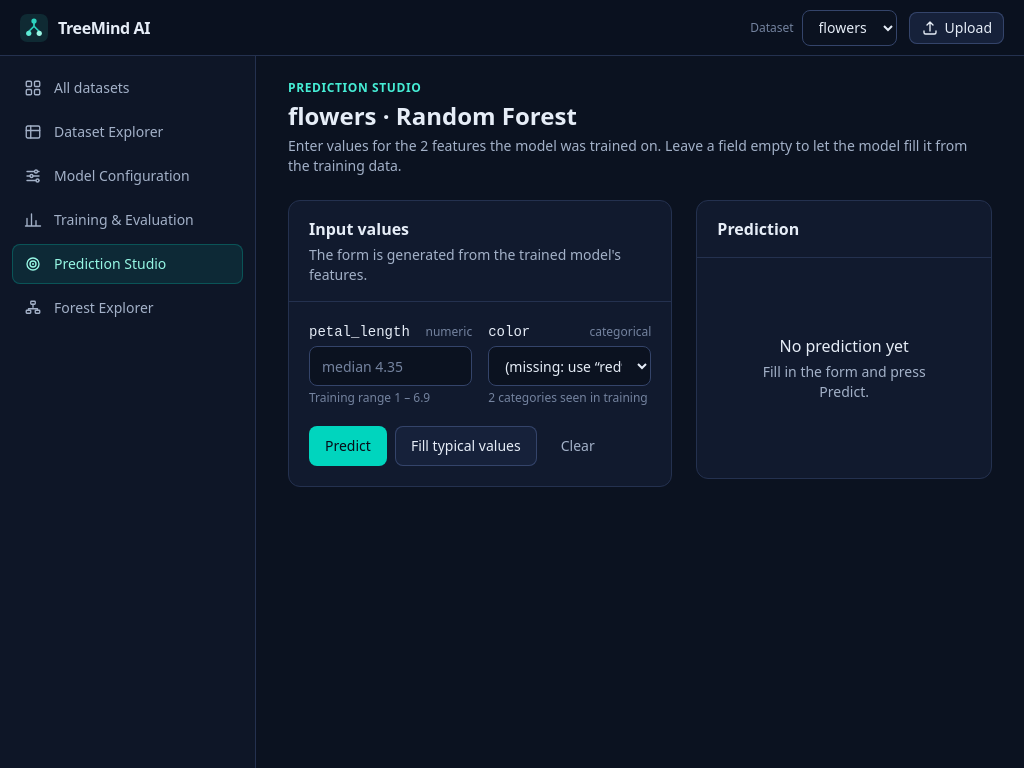
Test: Prediction Studio › builds the form from the model's features and sends real inputs
The width and height of the screenshot is (1024, 768).
Expected: the dropdown labelled "color categorical" shows "(missing: use “red”)", [488,346,651,386]
Expected: the text "Training range 1 – 6.9" is shown, [309,389,430,406]
Type "abc" into the field labelled "petal_length numeric". click: [391, 366]
box: [309,346,472,386]
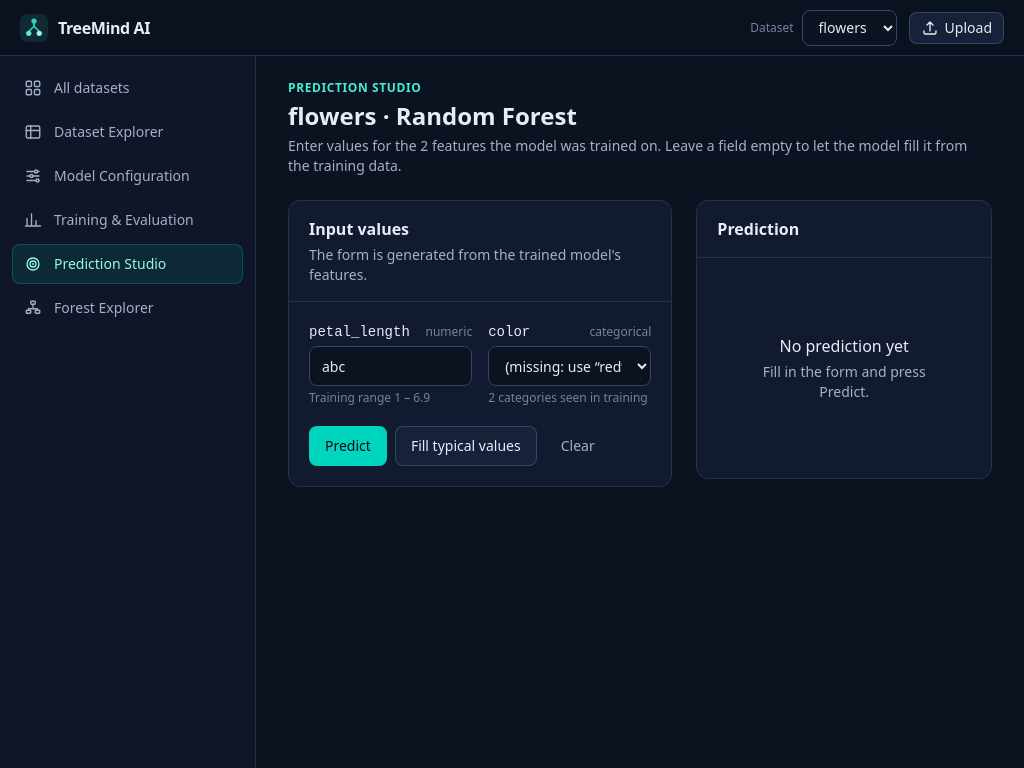
Click the button "Predict". click: [348, 446]
box: [309,426,387,466]
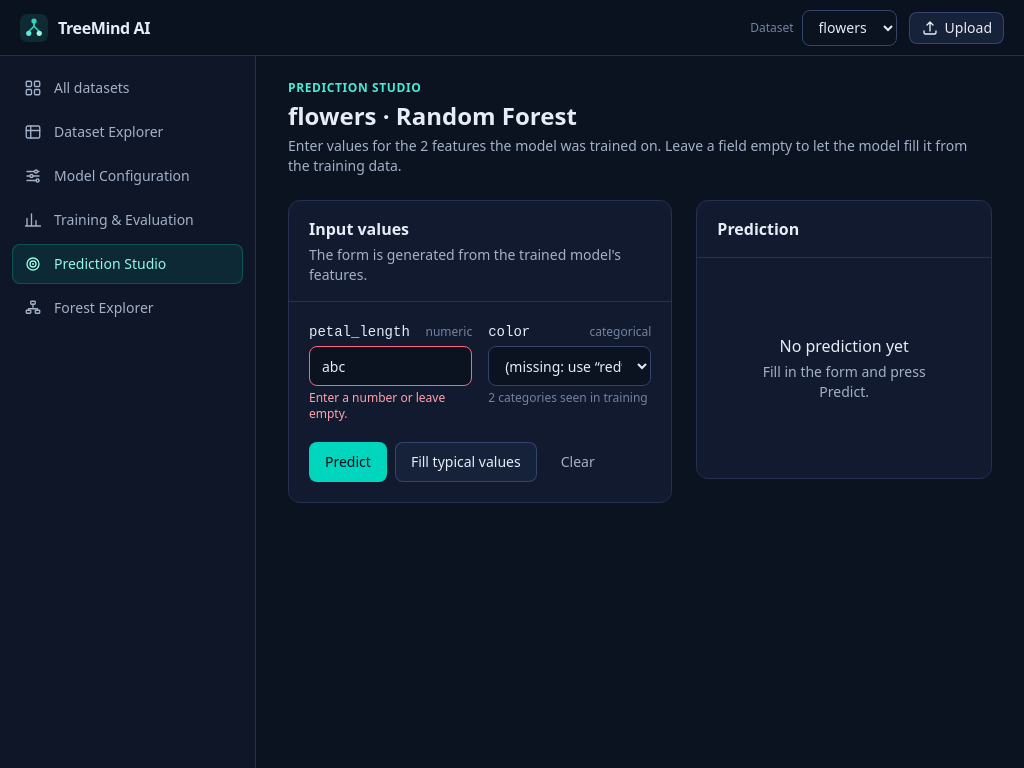
Expected: the text "Enter a number or leave empty." is shown, [309,389,445,422]
Replace the text in the field labelled "petal_length numeric" with "5.1". click: [391, 366]
box: [309,346,472,386]
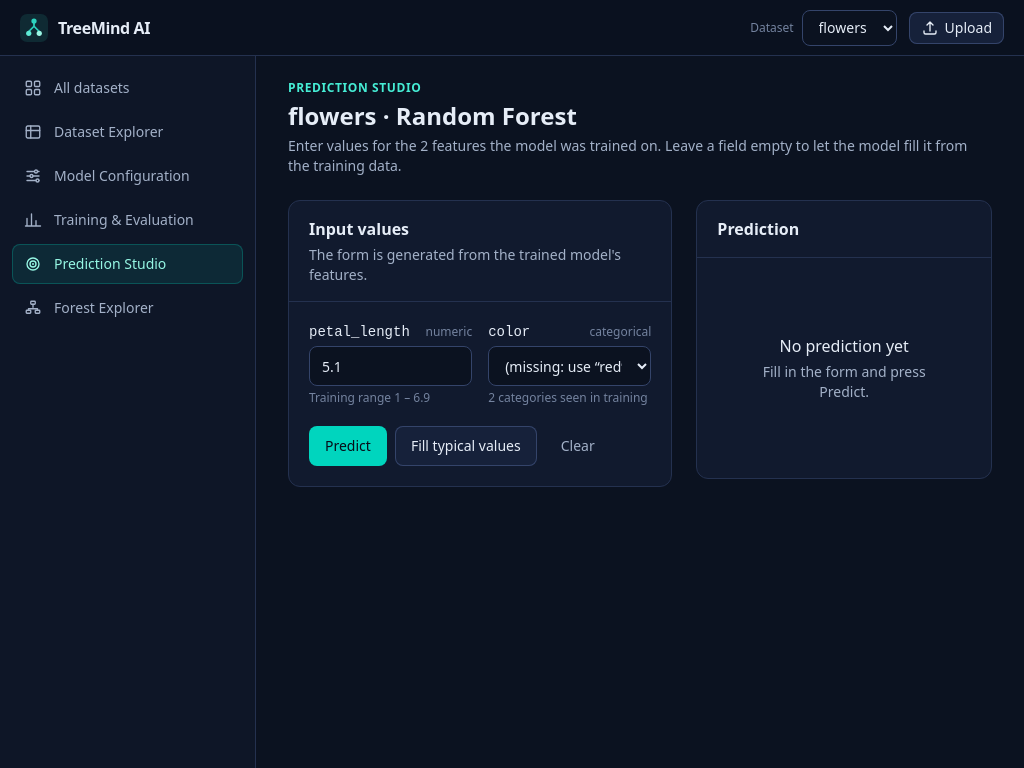
Click the button "Predict". click: [348, 446]
box: [309,426,387,466]
(page scrolled)
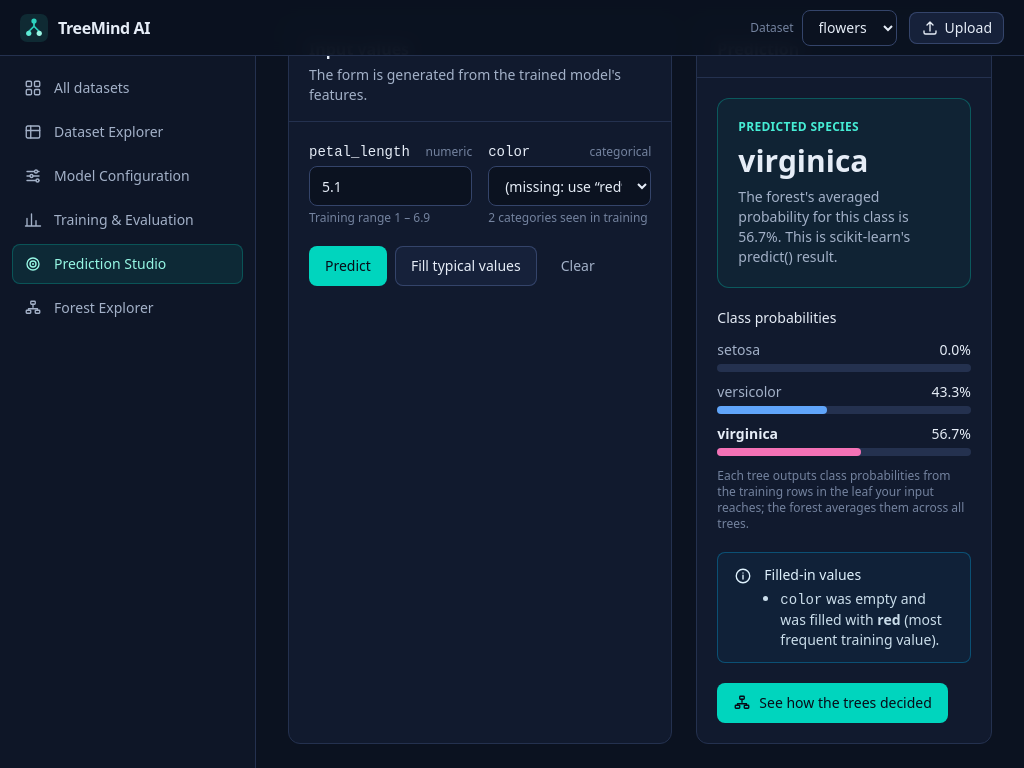
Expected: the text with test id "prediction" reads "virginica", [738,140,868,181]
Expected: the list named "Class probabilities" shows "56.7%", [932,424,971,443]
Expected: the list item "was empty and was filled with" is shown, [780,589,926,629]
